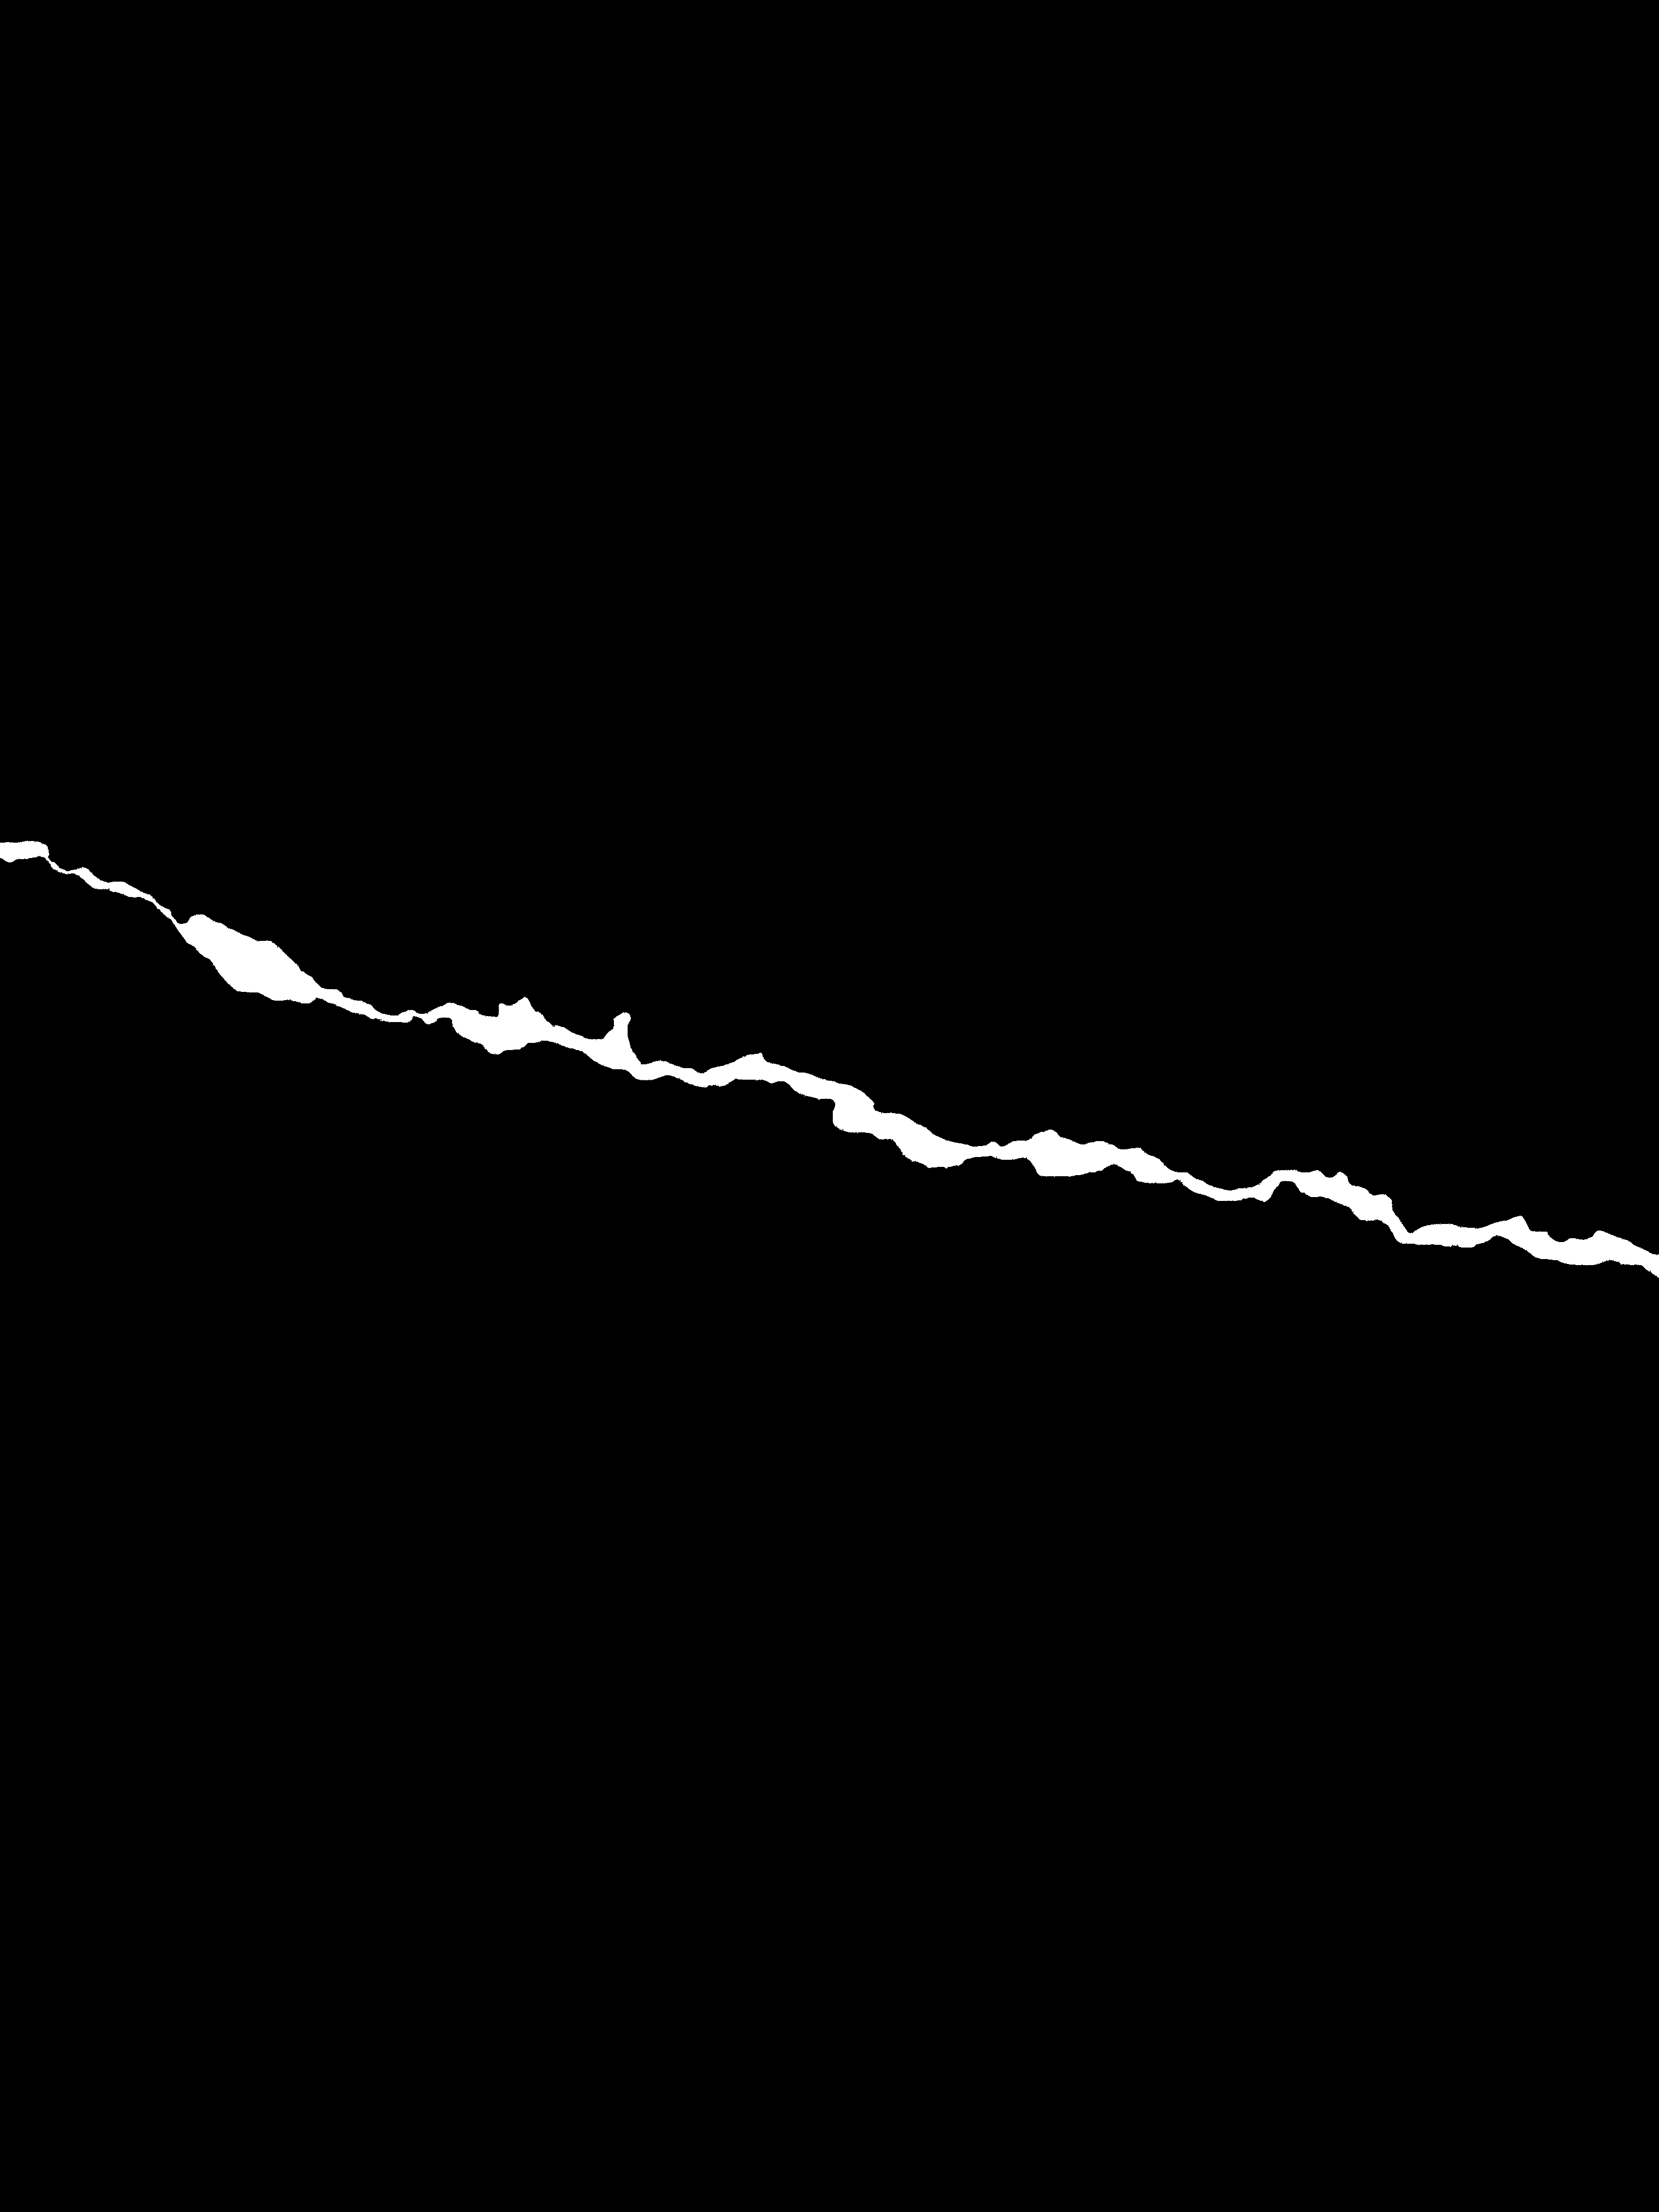Crack: (0, 819, 1659, 1296)
